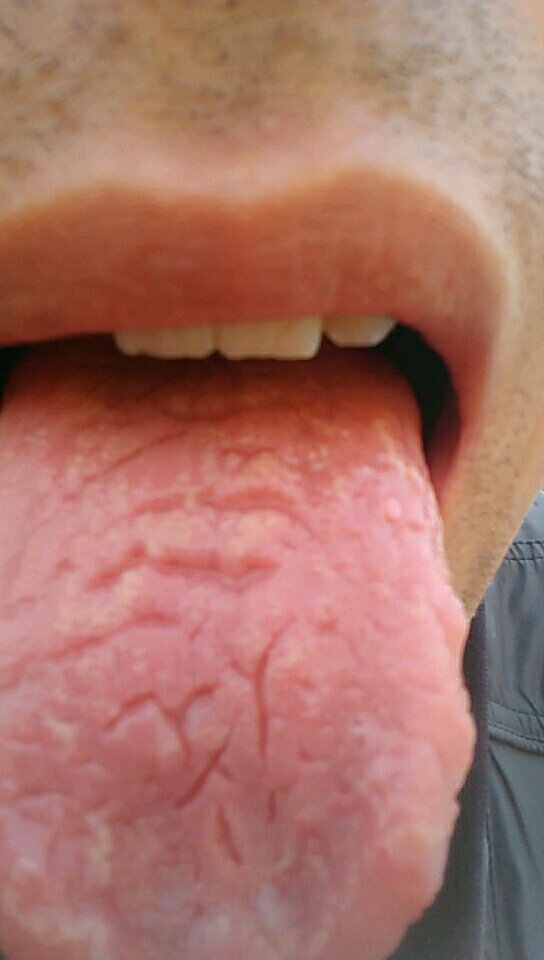hongshe: (1, 353, 478, 960)
huangtaishe: (1, 353, 478, 960)
liewenshe: (72, 399, 295, 874)
